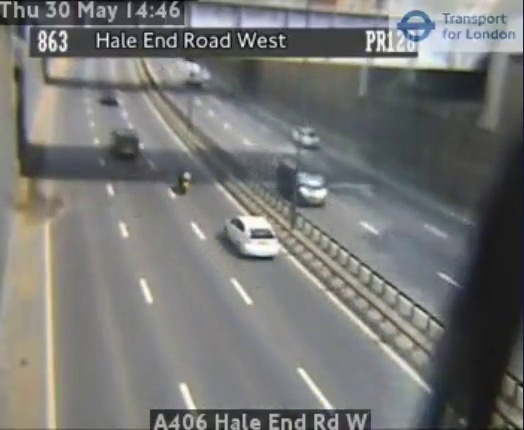car: (224, 216, 280, 257)
motorcycle: (177, 168, 193, 195)
